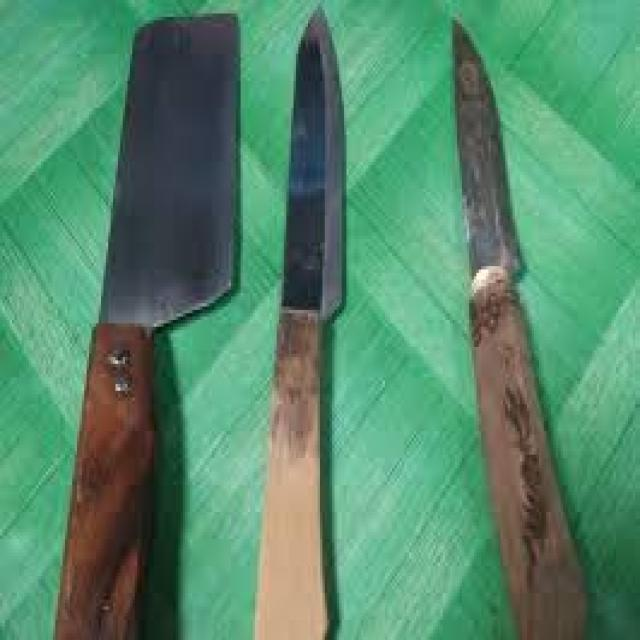Knife: (66, 6, 426, 640)
